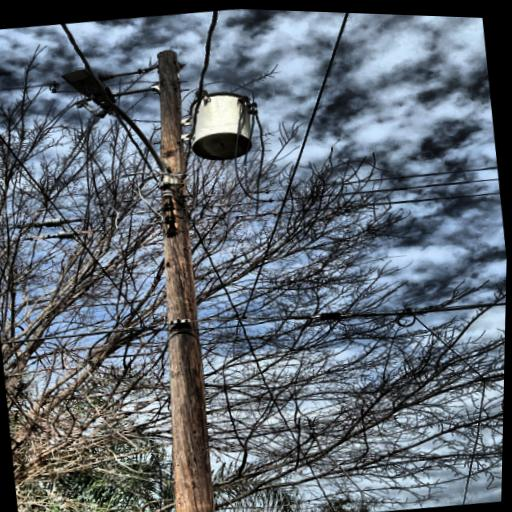pole: (65, 39, 250, 512)
street light: (55, 55, 191, 204)
transformer: (183, 85, 264, 168)
